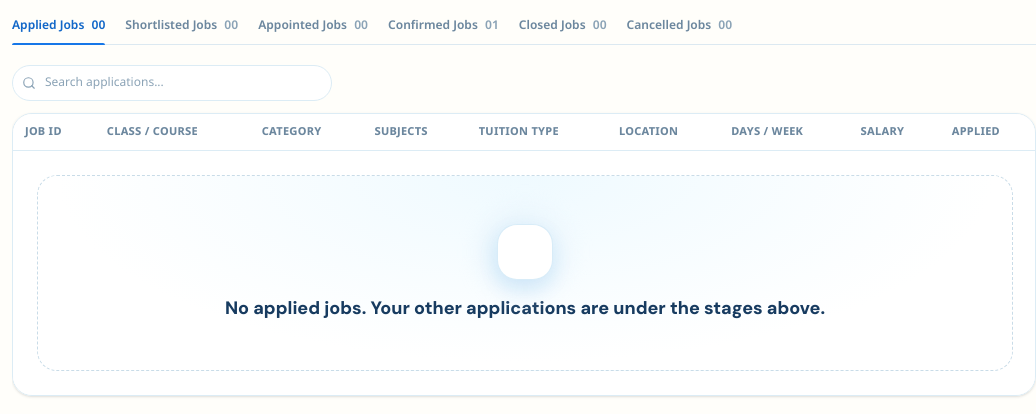
it: the Tutor's Status tab › the Guardian's name and number › are on Confirmed Jobs too, beside the confirmation date and the payment status
Step 1. Click the tab "Confirmed Jobs 01" → (443, 28), box [388, 12, 499, 44]
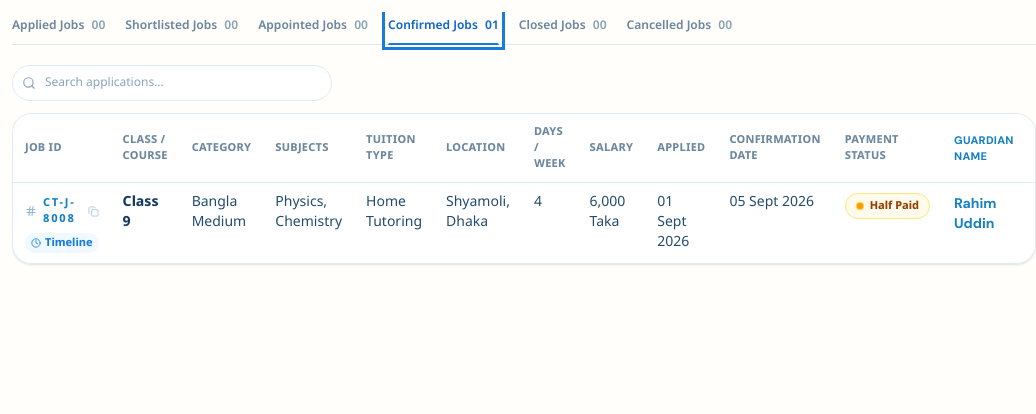
Now the column heading "Guardian Name" is shown, box [942, 114, 1026, 182]
Now the text "Rahim Uddin" is shown, box [954, 194, 996, 232]
Now the column heading "Confirmation Date" is shown, box [717, 114, 833, 182]
